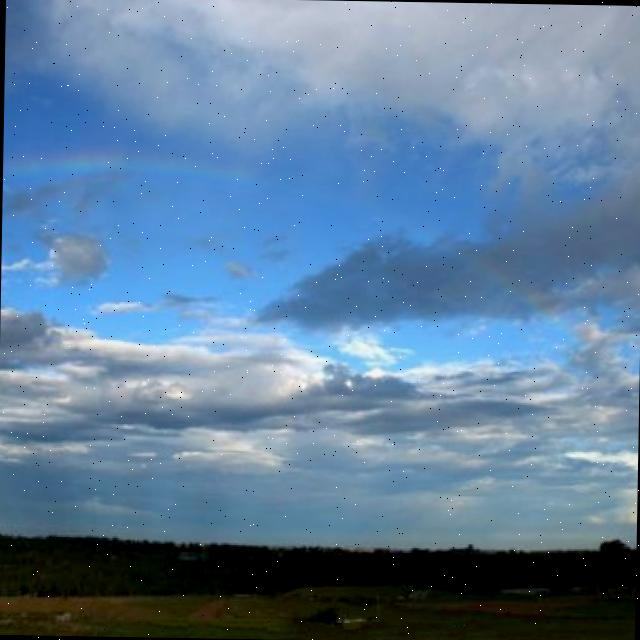Ac: (1, 48, 640, 511)
